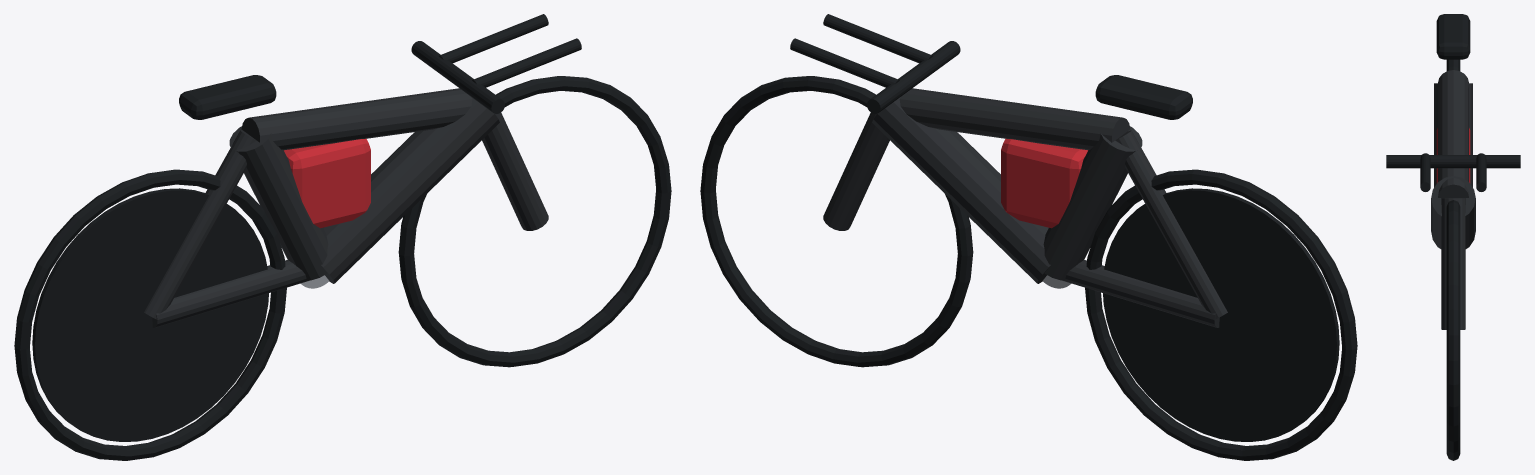
Rendered from specialized-shiv-disc-kona-study.glb.
The picture shows the model from 3 angles, left to right: view 1: azimuth 30°, elevation 25°; view 2: azimuth 150°, elevation 25°; view 3: azimuth 270°, elevation 25°; orthographic projection. The views are drawn at different scales.
Parts seen in each view (by area): view 1: specialized-shiv-disc-kona-study_REAR_DISC, specialized-shiv-disc-kona-study_REAR_WHEEL, specialized-shiv-disc-kona-study_FRONT_WHEEL, specialized-shiv-disc-kona-study_DOWN_TUBE, specialized-shiv-disc-kona-study_TOP_TUBE, specialized-shiv-disc-kona-study_SEAT_TUBE, specialized-shiv-disc-kona-study_FUELCELL, specialized-shiv-disc-kona-study_SEAT_STAY, specialized-shiv-disc-kona-study_CHAIN_STAY, specialized-shiv-disc-kona-study_FORK, specialized-shiv-disc-kona-study_SADDLE, specialized-shiv-disc-kona-study_AERO_BASE (+2 smaller); view 2: specialized-shiv-disc-kona-study_REAR_DISC, specialized-shiv-disc-kona-study_REAR_WHEEL, specialized-shiv-disc-kona-study_FRONT_WHEEL, specialized-shiv-disc-kona-study_DOWN_TUBE, specialized-shiv-disc-kona-study_TOP_TUBE, specialized-shiv-disc-kona-study_SEAT_TUBE, specialized-shiv-disc-kona-study_FUELCELL, specialized-shiv-disc-kona-study_SEAT_STAY, specialized-shiv-disc-kona-study_CHAIN_STAY, specialized-shiv-disc-kona-study_FORK, specialized-shiv-disc-kona-study_SADDLE, specialized-shiv-disc-kona-study_AERO_BASE (+2 smaller); view 3: specialized-shiv-disc-kona-study_FRONT_WHEEL, specialized-shiv-disc-kona-study_TOP_TUBE, specialized-shiv-disc-kona-study_AERO_BASE, specialized-shiv-disc-kona-study_FORK, specialized-shiv-disc-kona-study_SADDLE, specialized-shiv-disc-kona-study_DOWN_TUBE, specialized-shiv-disc-kona-study_SEAT_TUBE, specialized-shiv-disc-kona-study_EXT_L, specialized-shiv-disc-kona-study_EXT_R, specialized-shiv-disc-kona-study_REAR_WHEEL, specialized-shiv-disc-kona-study_FUELCELL.
Part boxes in pixels (x1,y1,x2,y2): specialized-shiv-disc-kona-study_REAR_DISC: (32, 188, 268, 441); specialized-shiv-disc-kona-study_REAR_WHEEL: (14, 169, 286, 460); specialized-shiv-disc-kona-study_FRONT_WHEEL: (398, 76, 671, 367); specialized-shiv-disc-kona-study_DOWN_TUBE: (321, 97, 499, 283); specialized-shiv-disc-kona-study_TOP_TUBE: (241, 88, 472, 150); specialized-shiv-disc-kona-study_SEAT_TUBE: (229, 126, 328, 280); specialized-shiv-disc-kona-study_FUELCELL: (284, 138, 370, 228); specialized-shiv-disc-kona-study_SEAT_STAY: (144, 130, 256, 319); specialized-shiv-disc-kona-study_CHAIN_STAY: (152, 260, 309, 327); specialized-shiv-disc-kona-study_FORK: (482, 112, 548, 230); specialized-shiv-disc-kona-study_SADDLE: (179, 75, 276, 119); specialized-shiv-disc-kona-study_AERO_BASE: (411, 41, 504, 113); specialized-shiv-disc-kona-study_REAR_DISC: (1103, 188, 1339, 441); specialized-shiv-disc-kona-study_REAR_WHEEL: (1085, 169, 1357, 460); specialized-shiv-disc-kona-study_FRONT_WHEEL: (700, 76, 973, 367); specialized-shiv-disc-kona-study_DOWN_TUBE: (872, 97, 1050, 283); specialized-shiv-disc-kona-study_TOP_TUBE: (899, 88, 1130, 150); specialized-shiv-disc-kona-study_SEAT_TUBE: (1043, 126, 1142, 280); specialized-shiv-disc-kona-study_FUELCELL: (1001, 138, 1087, 228); specialized-shiv-disc-kona-study_SEAT_STAY: (1115, 130, 1227, 319); specialized-shiv-disc-kona-study_CHAIN_STAY: (1062, 260, 1219, 327); specialized-shiv-disc-kona-study_FORK: (823, 112, 889, 230); specialized-shiv-disc-kona-study_SADDLE: (1095, 75, 1192, 119); specialized-shiv-disc-kona-study_AERO_BASE: (867, 41, 960, 113); specialized-shiv-disc-kona-study_FRONT_WHEEL: (1446, 200, 1460, 460); specialized-shiv-disc-kona-study_TOP_TUBE: (1438, 70, 1468, 197); specialized-shiv-disc-kona-study_AERO_BASE: (1386, 155, 1520, 168); specialized-shiv-disc-kona-study_FORK: (1441, 198, 1465, 329); specialized-shiv-disc-kona-study_SADDLE: (1436, 14, 1470, 59); specialized-shiv-disc-kona-study_DOWN_TUBE: (1431, 176, 1475, 248); specialized-shiv-disc-kona-study_SEAT_TUBE: (1434, 83, 1472, 187); specialized-shiv-disc-kona-study_EXT_L: (1420, 153, 1430, 191); specialized-shiv-disc-kona-study_EXT_R: (1476, 153, 1486, 191); specialized-shiv-disc-kona-study_REAR_WHEEL: (1446, 59, 1460, 70); specialized-shiv-disc-kona-study_FUELCELL: (1436, 128, 1470, 183).
Size of the model in its own units: 1.71 by 0.873 by 0.36.
